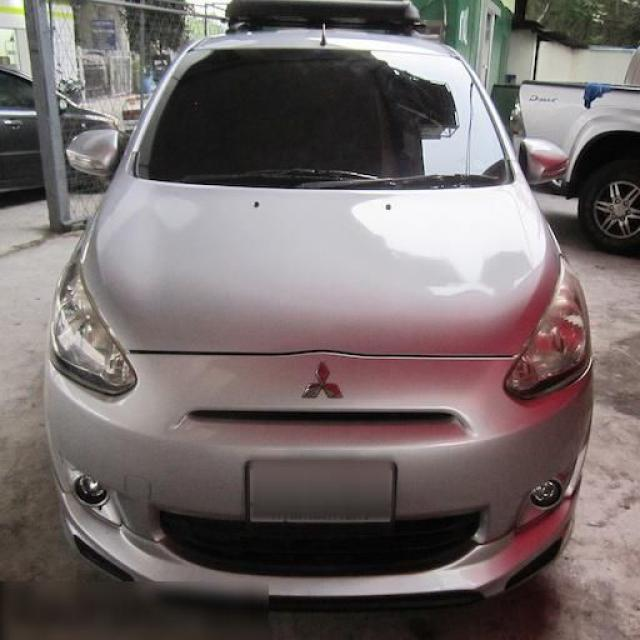front_bumper: (43, 350, 596, 614)
front_glass: (130, 48, 518, 191)
front_left_light: (506, 257, 595, 398)
front_right_light: (51, 244, 136, 394)
hood: (83, 176, 560, 358)
left_mirror: (516, 136, 571, 184)
right_mirror: (64, 130, 127, 179)
